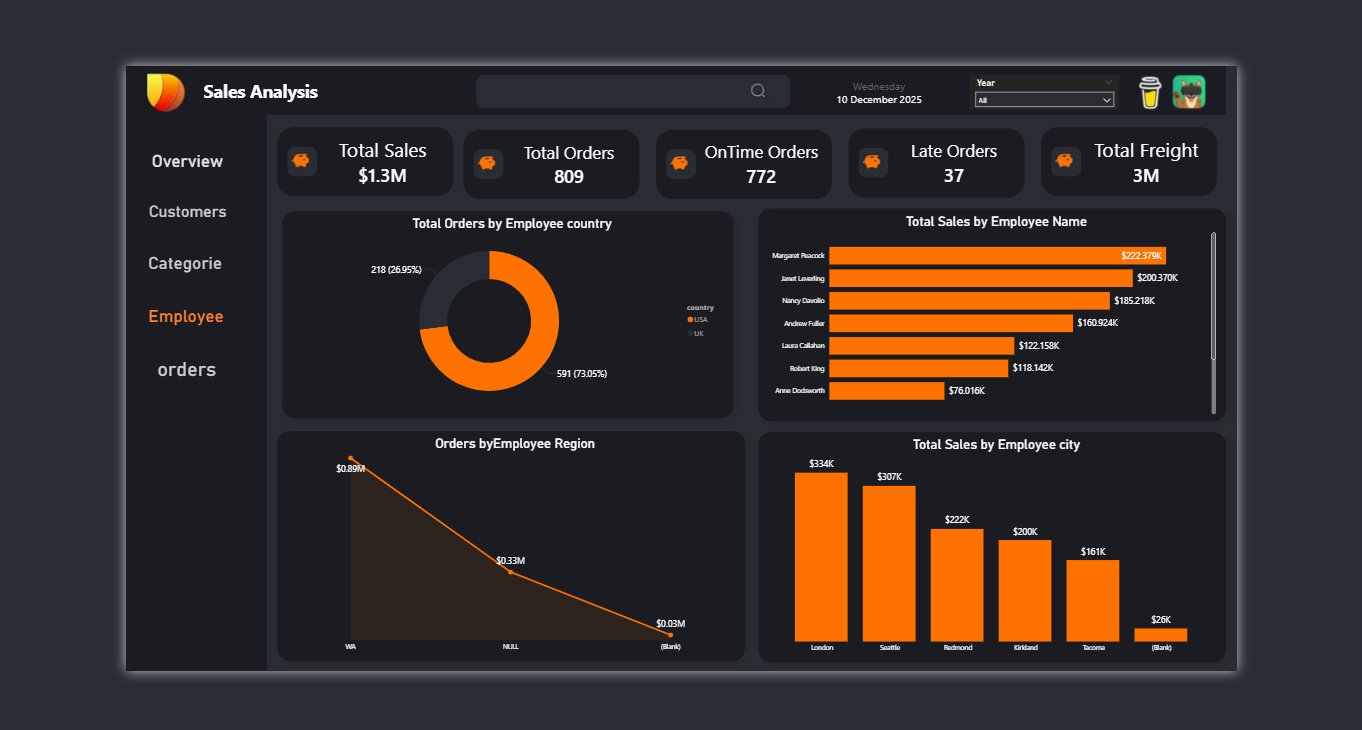

The page's visual inventory and layout, read from the dashboard file:
{"tool":"powerbi","page":{"name":"Employee","canvas":[2020,1100],"ordinal":3},"visuals":[{"type":"shape","box":[0,0,2000,88.9],"z":0},{"type":"shape","box":[0,0,256.2,1100],"z":1000},{"type":"actionButton","title":"Customers","box":[56.8,243.2,143.2,59.1],"z":2000},{"type":"actionButton","title":"Categories","box":[54.5,331.8,143.2,40.9],"z":3000},{"type":"actionButton","title":"orders","box":[54.5,529.5,143.2,111.4],"z":4000},{"type":"actionButton","title":"Employee","box":[59.1,429.5,140.9,40.9],"z":5000},{"type":"shape","box":[637,14.8,572.2,61.1],"z":6000},{"type":"textbox","box":[1259.3,18.5,220.4,61.1],"z":7000},{"type":"image","box":[1775.9,9.3,168.5,75.9],"z":8000},{"type":"image","box":[1861.1,5.6,138.9,75.9],"z":9000},{"type":"image","box":[0,1.9,116.7,88.9],"z":10000},{"type":"textbox","box":[127.8,18.5,309.3,66.7],"z":11000},{"type":"image","box":[1085.2,22.2,124.1,48.1],"z":12000},{"type":"actionButton","title":"Overview","box":[56.8,154.5,143.2,40.9],"z":13000},{"type":"slicer","fields":{"Values":["order_Dim.shipCountry"]},"box":[1535.2,14.8,272.2,63],"z":14000},{"type":"cardVisual","fields":{"Data":["MeasureDAX.Total Sales"]},"box":[275.9,111.9,320.4,125.9],"z":15000},{"type":"cardVisual","fields":{"Data":["MeasureDAX.Total Orders"]},"box":[614.5,115.3,320,125.9],"z":16000},{"type":"cardVisual","fields":{"Data":["MeasureDAX.Late Orders"]},"box":[1313.2,113.6,320.4,125.9],"z":17000},{"type":"cardVisual","fields":{"Data":["MeasureDAX.OnTime Orders"]},"box":[963.9,117,320,125.9],"z":18000},{"type":"cardVisual","fields":{"Data":["MeasureDAX.Total Freight"]},"box":[1663,111.1,320.4,125],"z":19000},{"type":"barChart","title":"Total Sales by Employee Name","fields":{"Category":["employee_Dim.Name"],"Y":["MeasureDAX.Total Sales"]},"box":[1150,258.3,850,387.5],"z":20000},{"type":"donutChart","title":"Total Orders by Employee country","fields":{"Category":["employee_Dim.country"],"Y":["MeasureDAX.Total Orders"]},"box":[283.3,262.5,820.8,377.1],"z":21000},{"type":"lineChart","title":"Orders byEmployee Region","fields":{"Category":["employee_Dim.region"],"Y":["MeasureDAX.Total Sales"]},"box":[275,664.6,850,418.8],"z":22000},{"type":"columnChart","title":"Total Sales by Employee city","fields":{"Category":["employee_Dim.city"],"Y":["MeasureDAX.Total Sales"]},"box":[1150,666.7,850,418.8],"z":23000}]}

Visuals, with their boxes on the page's 2020x1100 design canvas (x1, y1, x2, y2). These are canvas units, not pixel positions in the 1362x730 screenshot, which may show the page scaled, cropped or inside an application window:
shape: detection(0, 0, 2000, 89)
shape: detection(0, 0, 256, 1100)
"Customers" actionButton: detection(57, 243, 200, 302)
"Categories" actionButton: detection(54, 332, 198, 373)
"orders" actionButton: detection(54, 530, 198, 641)
"Employee" actionButton: detection(59, 430, 200, 470)
shape: detection(637, 15, 1209, 76)
textbox: detection(1259, 18, 1480, 80)
image: detection(1776, 9, 1944, 85)
image: detection(1861, 6, 2000, 82)
image: detection(0, 2, 117, 91)
textbox: detection(128, 18, 437, 85)
image: detection(1085, 22, 1209, 70)
"Overview" actionButton: detection(57, 154, 200, 195)
slicer - order_Dim.shipCountry: detection(1535, 15, 1807, 78)
cardVisual - MeasureDAX.Total Sales: detection(276, 112, 596, 238)
cardVisual - MeasureDAX.Total Orders: detection(614, 115, 934, 241)
cardVisual - MeasureDAX.Late Orders: detection(1313, 114, 1634, 240)
cardVisual - MeasureDAX.OnTime Orders: detection(964, 117, 1284, 243)
cardVisual - MeasureDAX.Total Freight: detection(1663, 111, 1983, 236)
"Total Sales by Employee Name" barChart: detection(1150, 258, 2000, 646)
"Total Orders by Employee country" donutChart: detection(283, 262, 1104, 640)
"Orders byEmployee Region" lineChart: detection(275, 665, 1125, 1083)
"Total Sales by Employee city" columnChart: detection(1150, 667, 2000, 1086)
